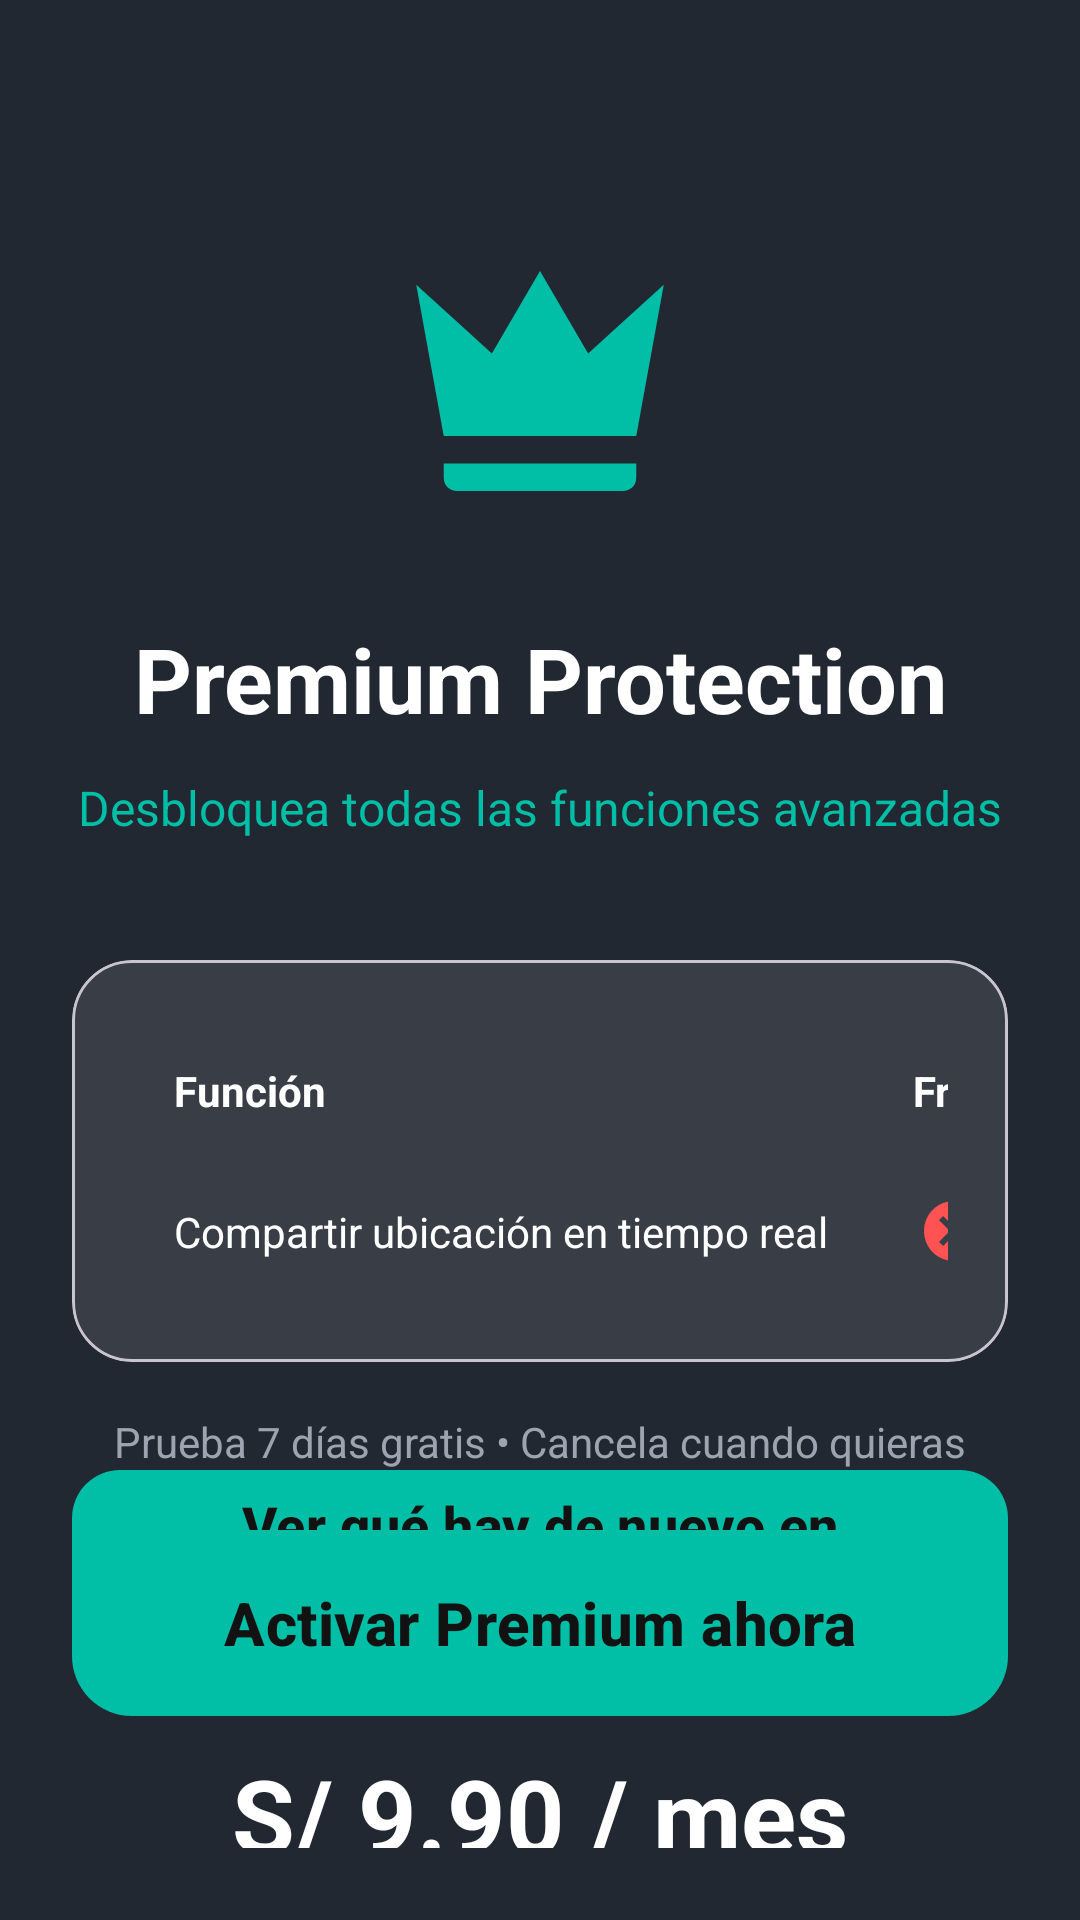

Icons on this 1080w x 1920h Android screen, each with the point to tap as [x,y]:
crown: [540,381]
